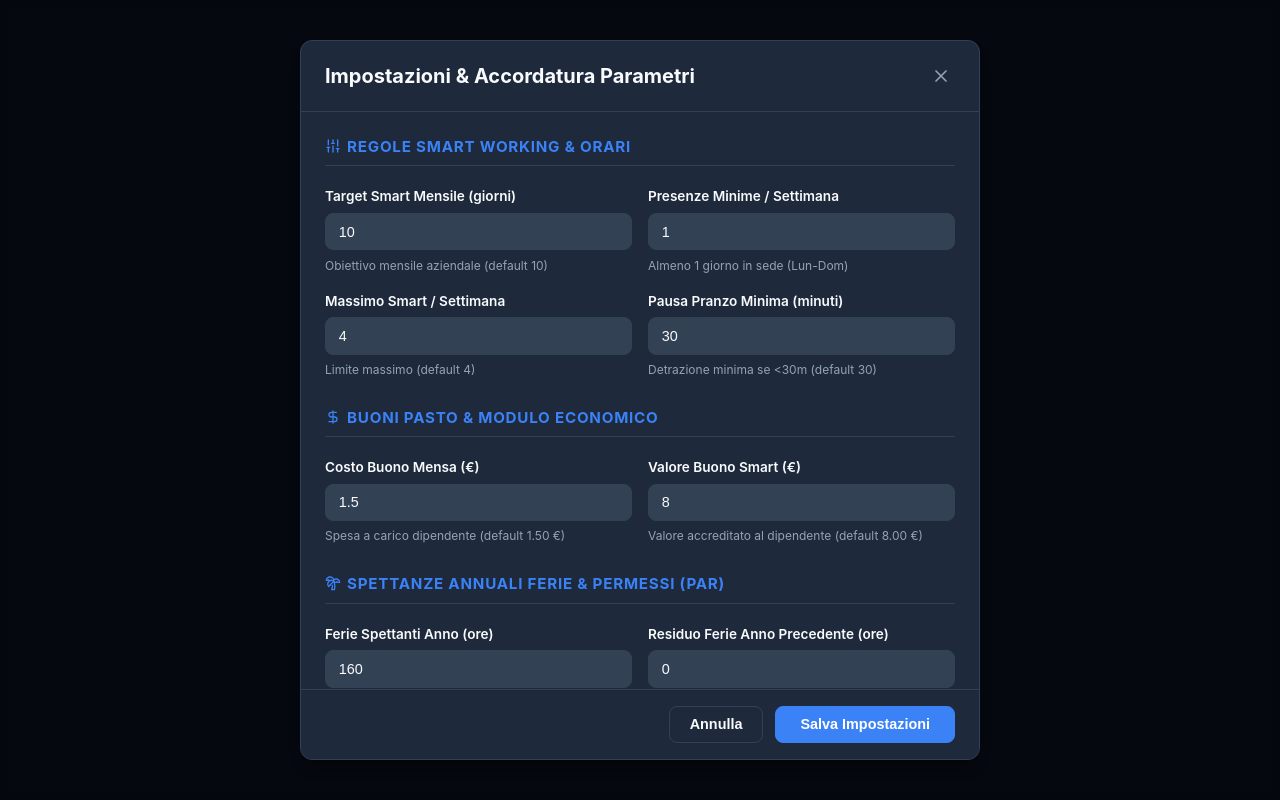
SettingsModal Component › resets inputs to defaults on btn-reset-defaults
Replace the text in the number field with test id "setting-max-smart" with "15": (478, 232) [325,213,632,250]
(page scrolled)
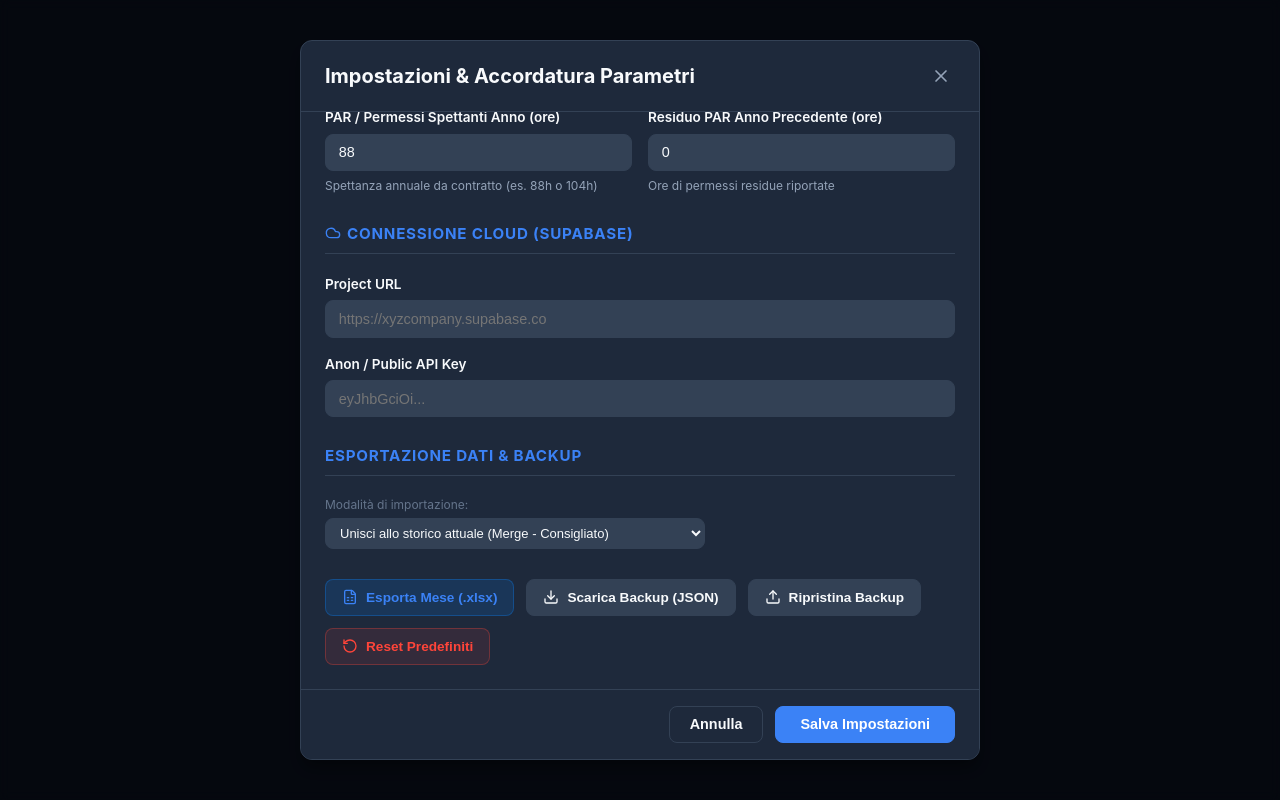
Click the button with test id "btn-reset-defaults": (408, 646) [325,628,490,665]
(page scrolled)
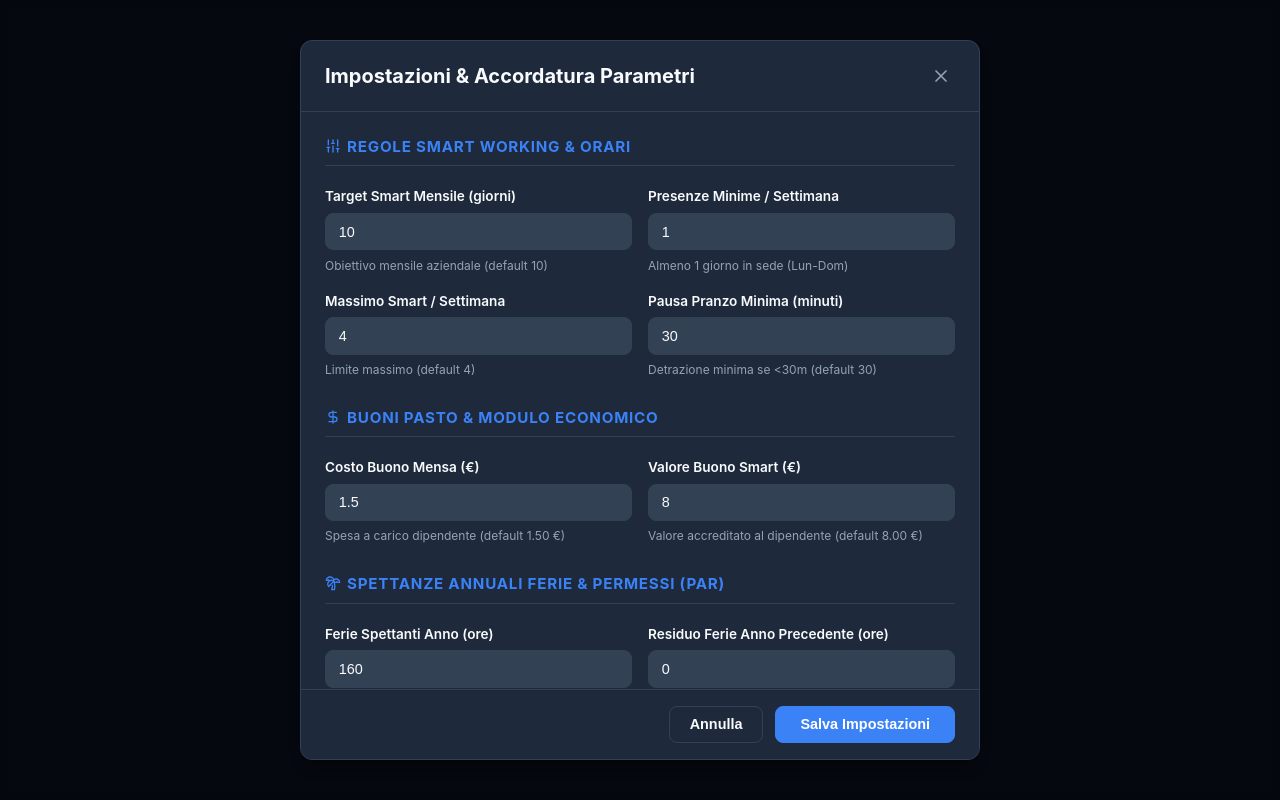
Expected: the number field with test id "setting-max-smart" holds "10", [325,213,632,250]
